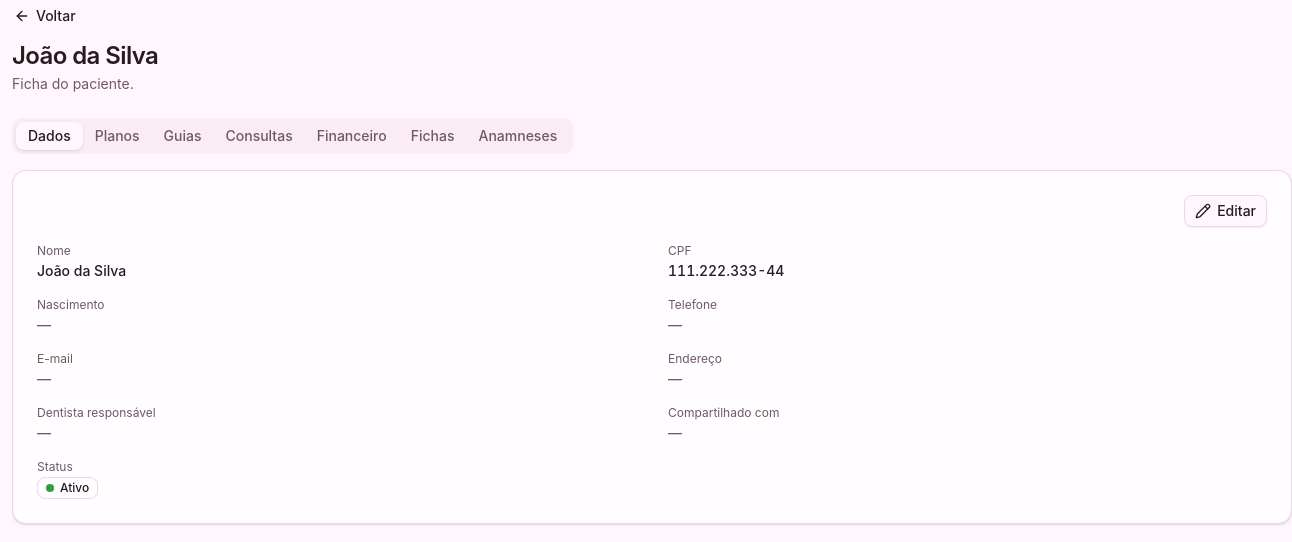
Test: PacienteDetalhePage › aba Fichas: existe e mostra o aviso de vazio
Click the tab "Fichas" at (433, 136), box [399,122,466,150]
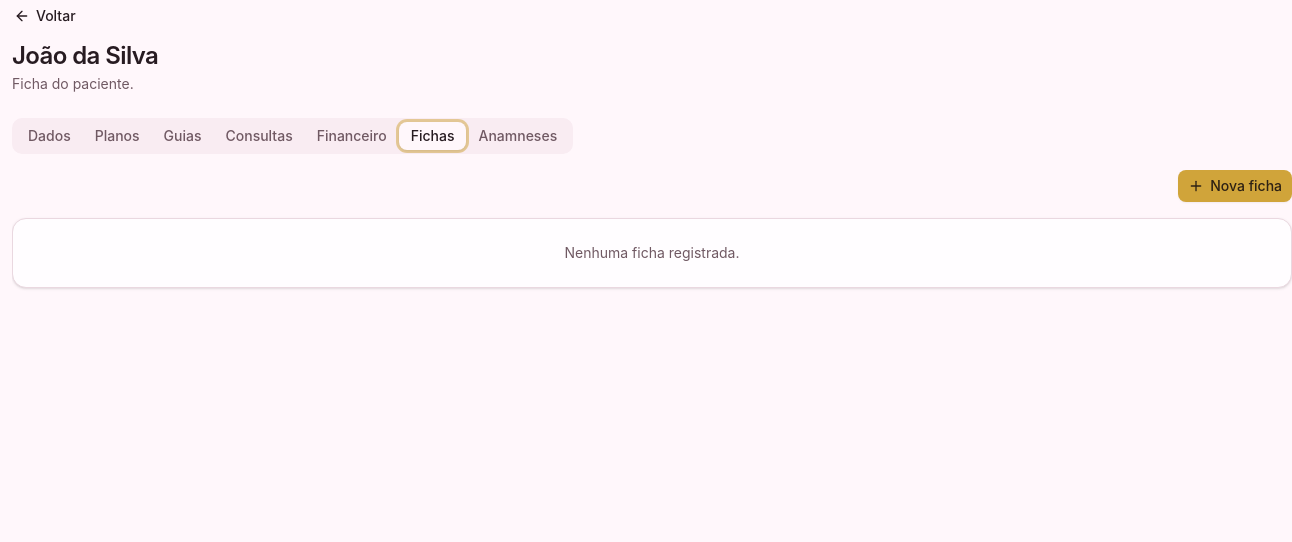
Expected: the text "Nenhuma ficha registrada." is shown, [564,244,740,261]
